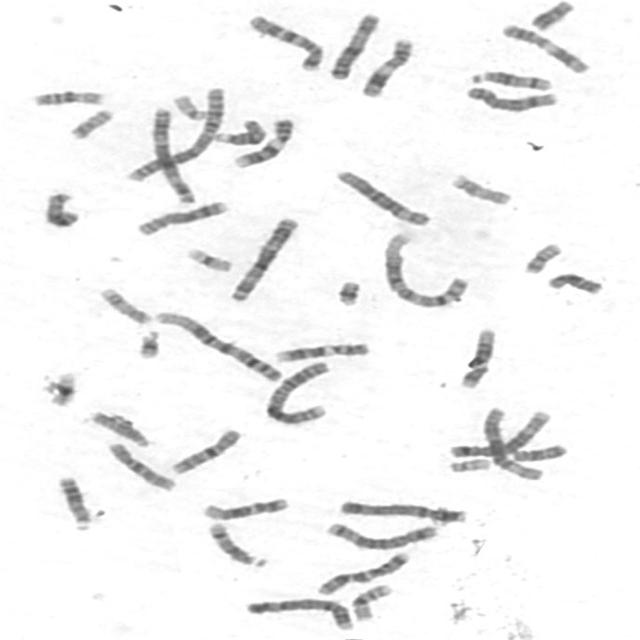A1: (149, 306, 286, 383), (376, 228, 473, 309)
A2: (119, 82, 229, 184), (260, 356, 334, 426)
A3: (223, 212, 302, 303), (144, 103, 198, 204)
B4: (240, 592, 358, 632), (334, 495, 469, 524)
B5: (444, 406, 553, 459), (318, 518, 439, 550)
C10: (101, 436, 179, 493), (163, 424, 244, 476)
C11: (494, 18, 593, 75), (354, 34, 416, 98)
C12: (452, 323, 498, 390), (195, 492, 291, 521)
C6: (330, 165, 433, 228), (476, 402, 546, 482)
C7: (241, 10, 326, 72), (310, 547, 413, 596)
C8: (129, 196, 231, 237), (459, 81, 561, 113)
C9: (228, 113, 298, 169), (269, 337, 373, 364)
D13: (50, 470, 94, 532), (42, 189, 87, 231)
D14: (200, 517, 270, 569), (464, 66, 555, 91)
D15: (82, 406, 152, 448), (207, 115, 269, 146)
E16: (346, 580, 394, 622), (25, 84, 107, 108)
E17: (444, 168, 514, 207), (92, 283, 154, 325)
E18: (540, 267, 606, 296), (506, 439, 569, 462)
F19: (180, 242, 236, 273), (40, 369, 79, 409)
F20: (63, 104, 116, 140), (517, 238, 564, 275)
G21: (130, 325, 163, 360), (330, 275, 364, 307)
G22: (166, 89, 211, 122), (442, 454, 493, 473)
X: (322, 8, 383, 81)
Y: (525, 0, 577, 32)
